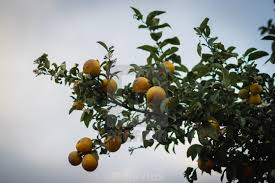orange: (146, 85, 167, 108), (82, 58, 101, 78), (101, 76, 118, 95), (132, 77, 150, 94), (81, 154, 97, 172), (76, 137, 92, 152), (68, 150, 81, 165), (249, 82, 264, 95)
